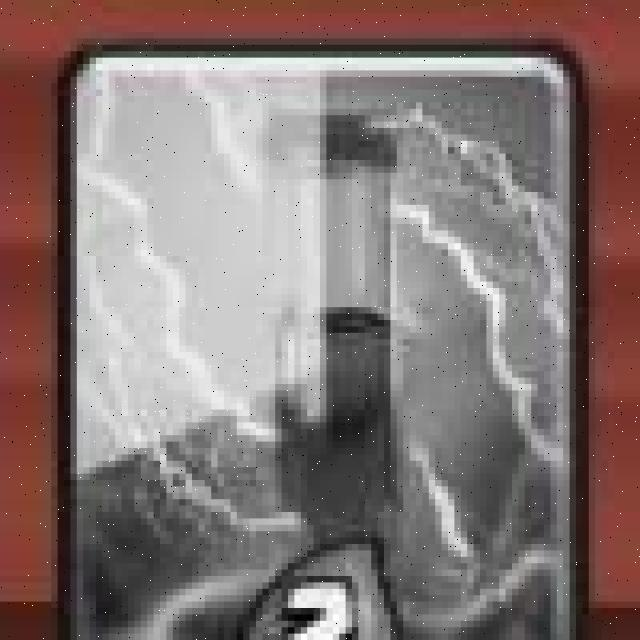Zap: (59, 50, 580, 637)
